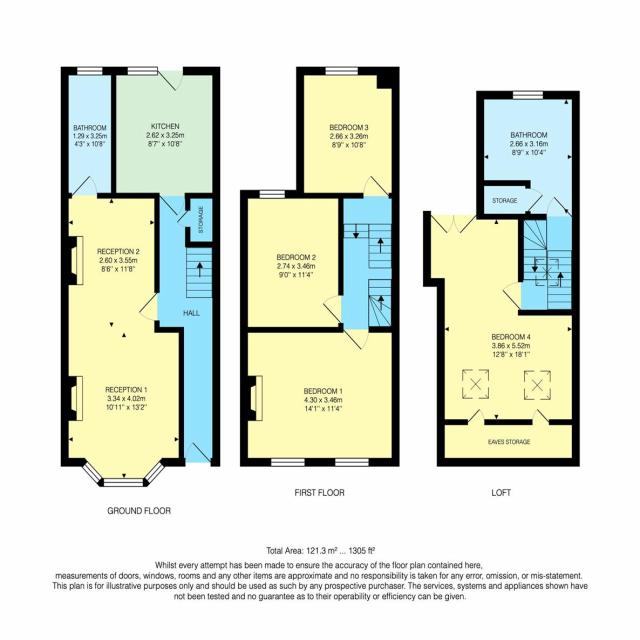DOOR: (545, 195, 573, 221), (184, 441, 212, 467), (501, 280, 524, 311), (137, 291, 160, 322), (157, 66, 184, 92), (321, 294, 344, 324), (343, 326, 370, 351), (362, 174, 389, 199), (70, 175, 98, 199), (158, 193, 186, 217), (468, 407, 485, 425), (532, 408, 549, 426)
DOUBLE DOOR: (429, 210, 477, 236)
ROOM: (60, 175, 184, 488), (423, 211, 580, 425), (240, 326, 400, 467), (111, 66, 220, 217), (240, 190, 344, 333), (296, 66, 400, 199)
WINDOW: (143, 460, 166, 485), (81, 460, 103, 485), (103, 478, 144, 488), (270, 457, 305, 467), (334, 457, 369, 467), (324, 66, 359, 76), (512, 90, 543, 100), (127, 66, 158, 76), (76, 66, 104, 76), (259, 190, 286, 199)
